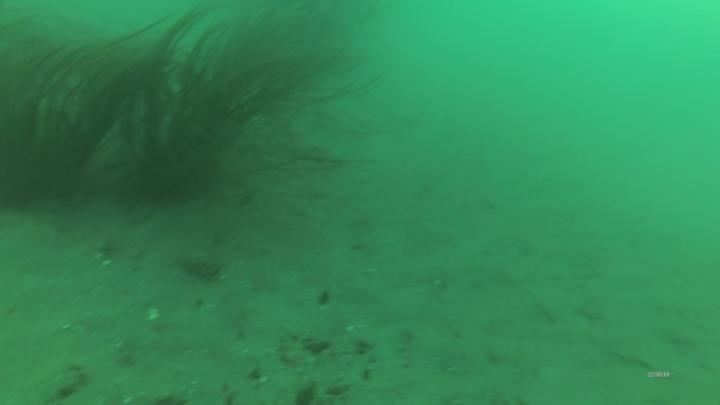waterweeds: (126, 1, 384, 212), (1, 1, 162, 215)
